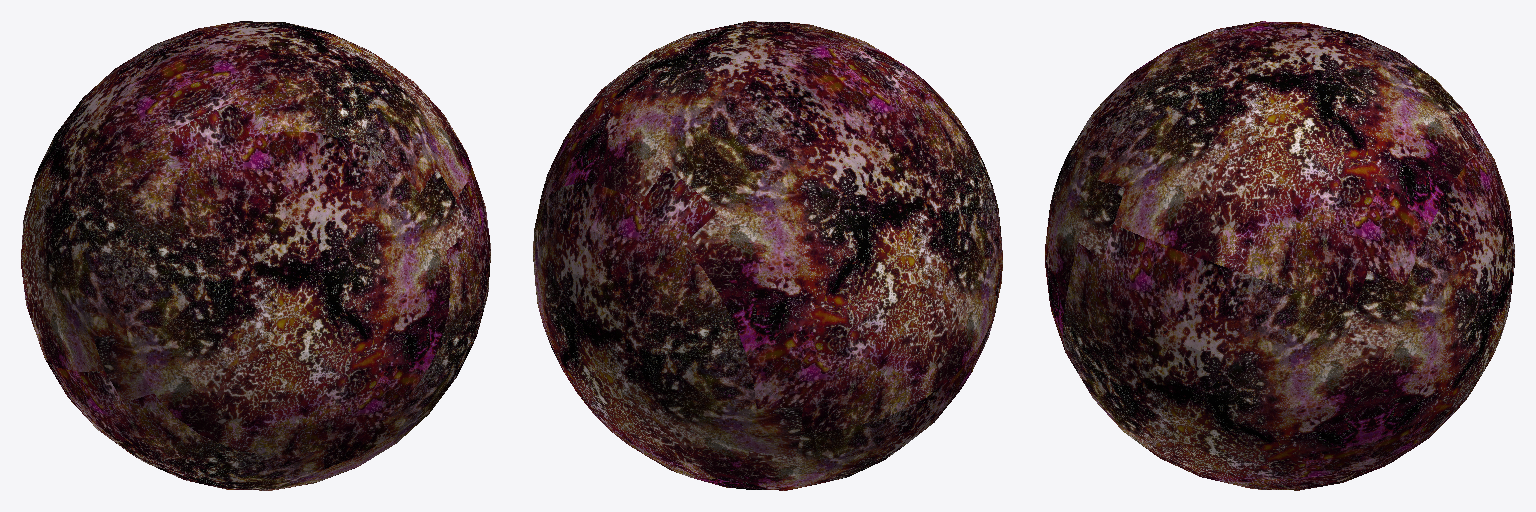
3 views of the same model, side by side, from view 1: azimuth 30°, elevation 25°; view 2: azimuth 150°, elevation 25°; view 3: azimuth 270°, elevation 25° (orthographic).
Parts seen in each view (by area): view 1: Sphere; view 2: Sphere; view 3: Sphere.
Part boxes in pixels (x1,y1,x2,y2): Sphere: (21,21,490,490); Sphere: (533,21,1002,490); Sphere: (1045,21,1514,490).
Bounding box in the file's own units: 9.82 × 9.87 × 9.87.
Materials: 1 (1 with a texture image).